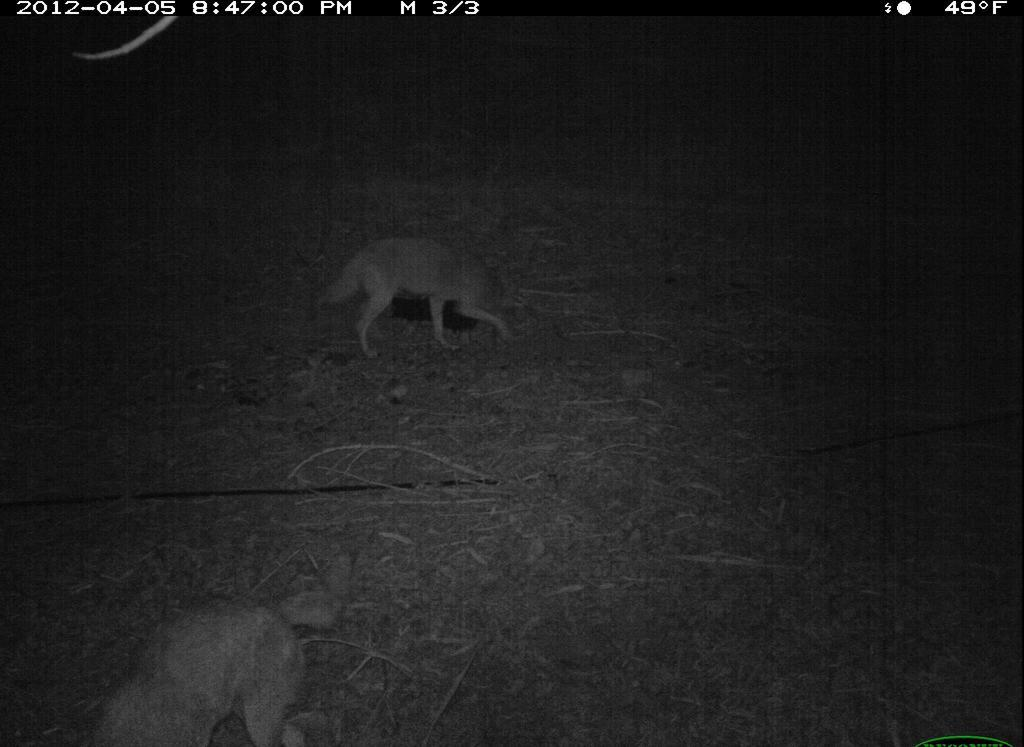coyote: (81, 546, 368, 747), (308, 214, 534, 359)
